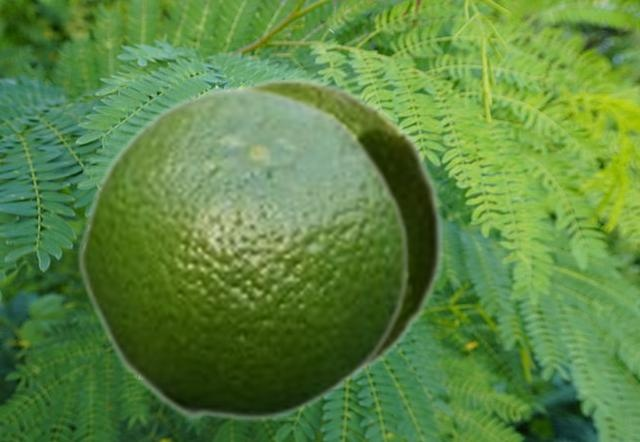calamansi: (76, 83, 410, 421), (216, 76, 445, 387)
